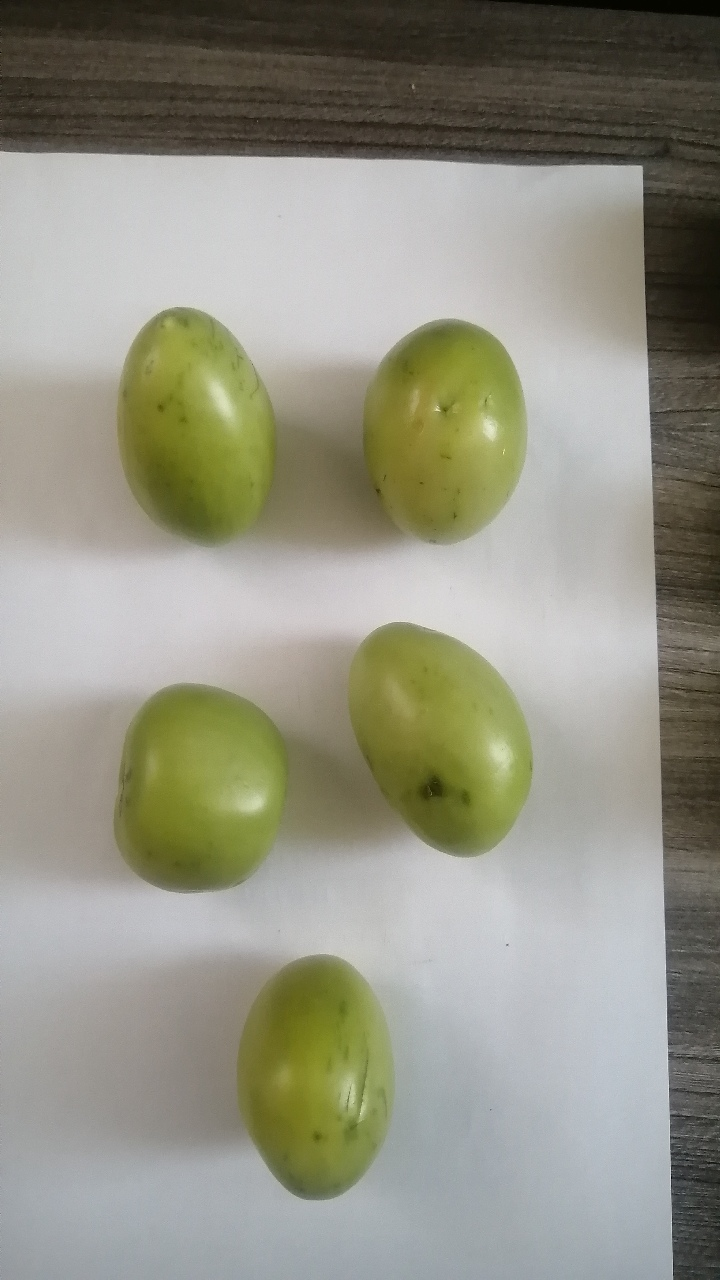tomateVerde: (337, 606, 551, 879), (108, 289, 306, 579), (97, 675, 324, 920), (348, 300, 540, 565), (223, 946, 408, 1217)
